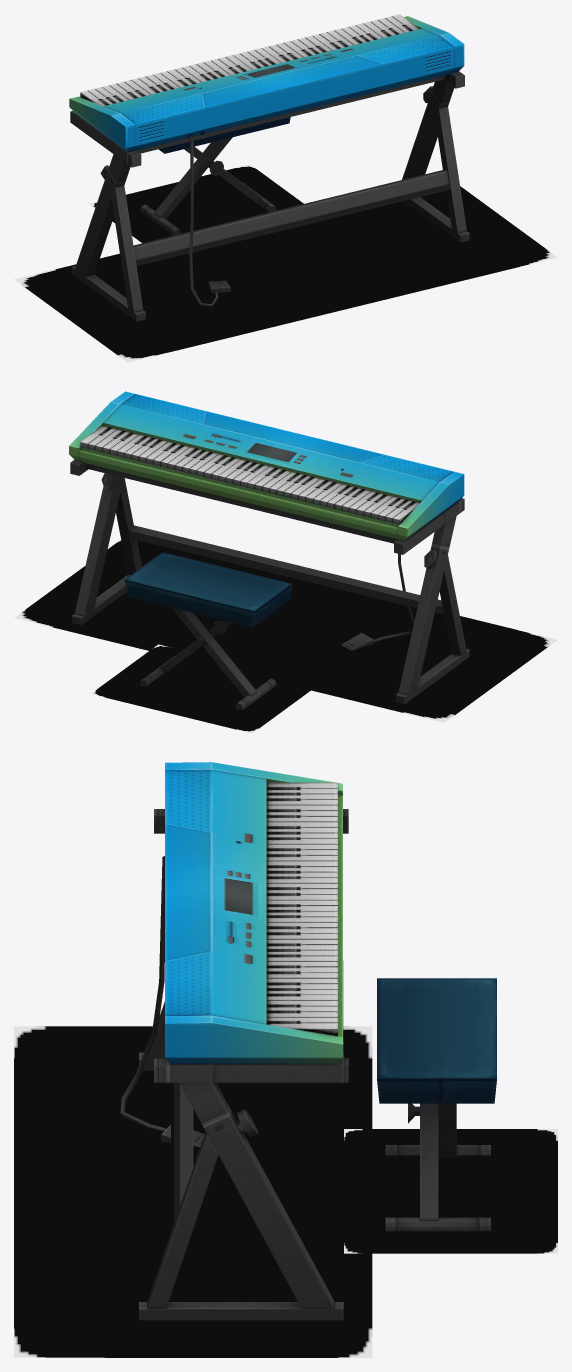
The model's file is jj_ty_piano03.FBX.
The picture shows the model from 3 angles, top to bottom: view 1: azimuth 30°, elevation 25°; view 2: azimuth 150°, elevation 25°; view 3: azimuth 270°, elevation 25°; orthographic projection. The views are drawn at different scales.
Parts seen in each view (by area): view 1: jj_ty_piano03_01, shadow; view 2: jj_ty_piano03_01, shadow; view 3: shadow, jj_ty_piano03_01.
Part boxes in pixels (box(x1,y1,x2,y2)): jj_ty_piano03_01: box(69, 14, 469, 321); shadow: box(14, 164, 557, 362); jj_ty_piano03_01: box(69, 391, 469, 710); shadow: box(14, 540, 557, 733); shadow: box(14, 1026, 557, 1357); jj_ty_piano03_01: box(120, 762, 496, 1320).
Size of the model in its own units: 105 by 44.87 by 73.09.
